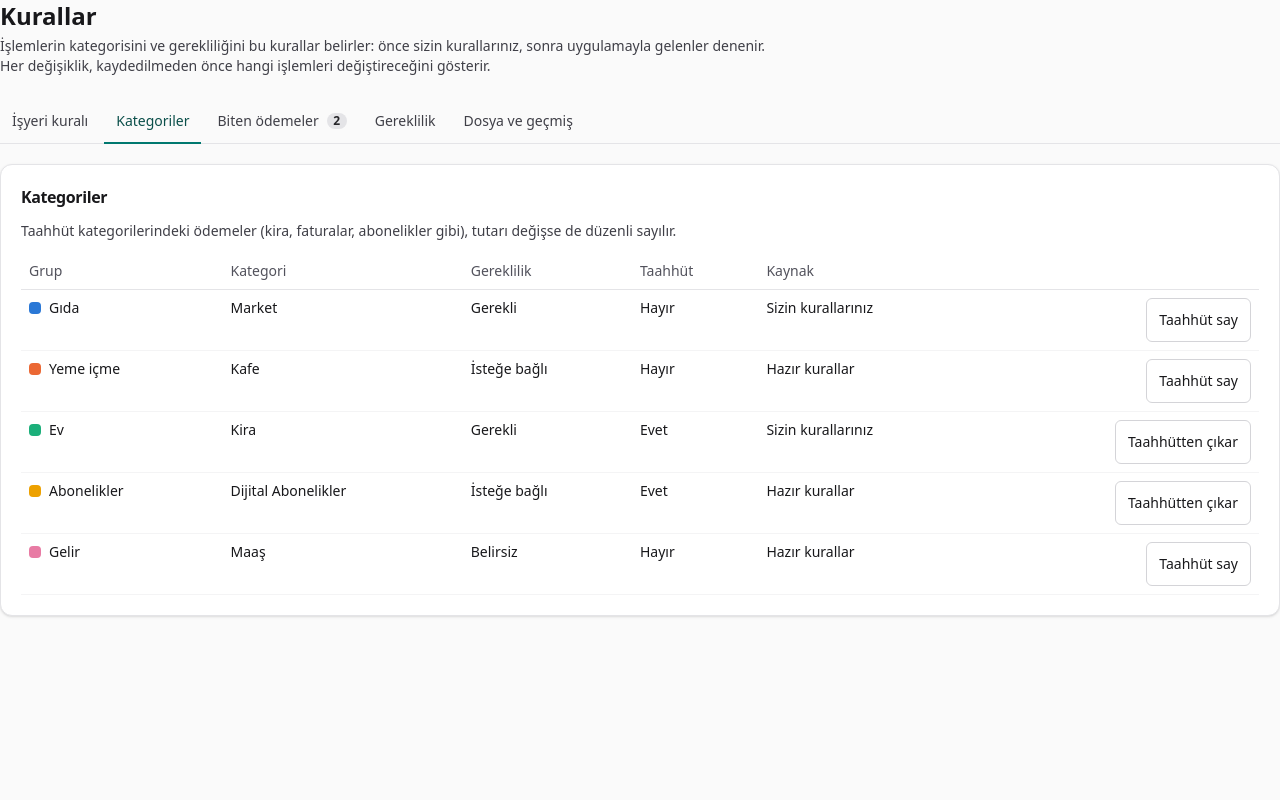
it: RulesPage: what the rules hold › lists the categories in one table in the detailed view, with whose rule names each
Expected: the text "Sizin kurallarınız" in the row of "Gıda" is shown, [766,298,873,317]
Expected: the text "Hazır kurallar" in the row of "Yeme içme" is shown, [766,359,855,378]
Step 1. Click the tab "Biten ödemeler 2" → (282, 122), box [206,100,359,144]
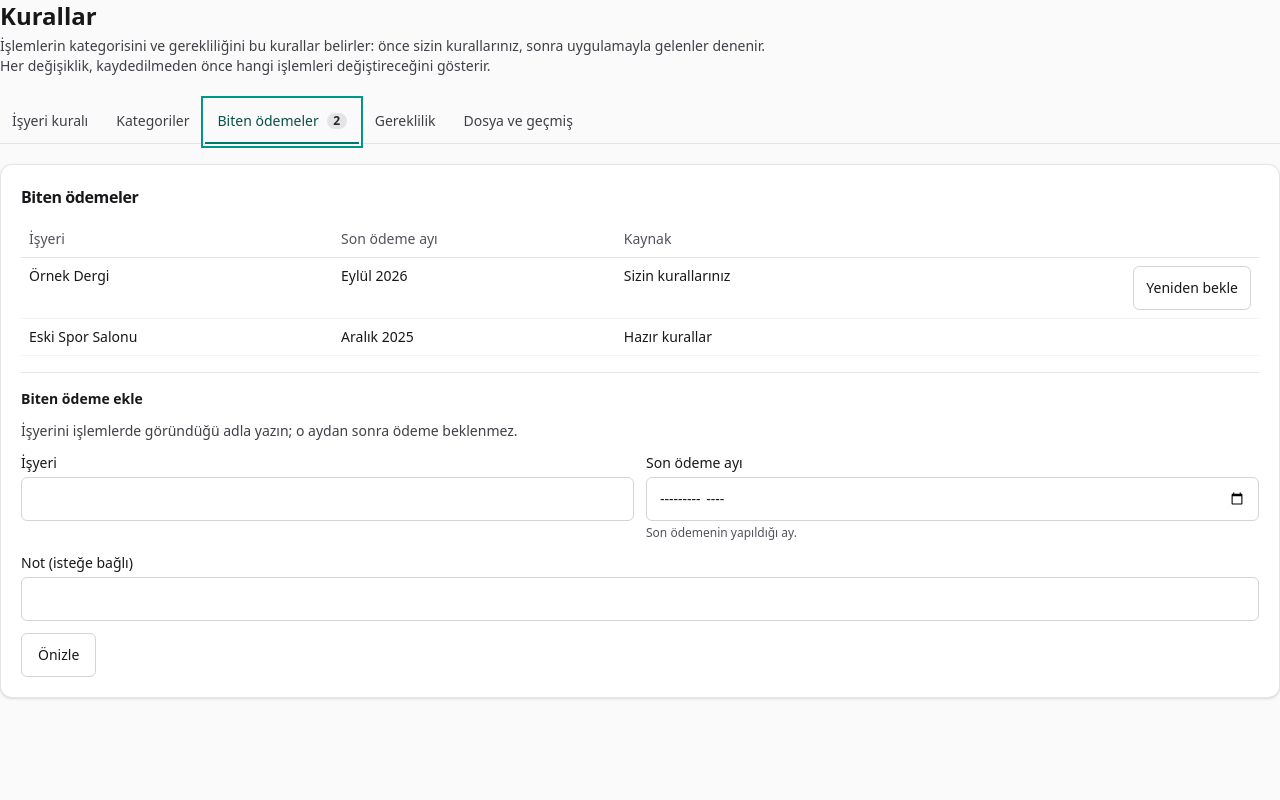
Now the text "Eylül 2026" is shown, box [333,258,616,318]
Step 2. Click the tab "Dosya ve geçmiş" → (518, 122), box [452,100,585,144]
(page scrolled)
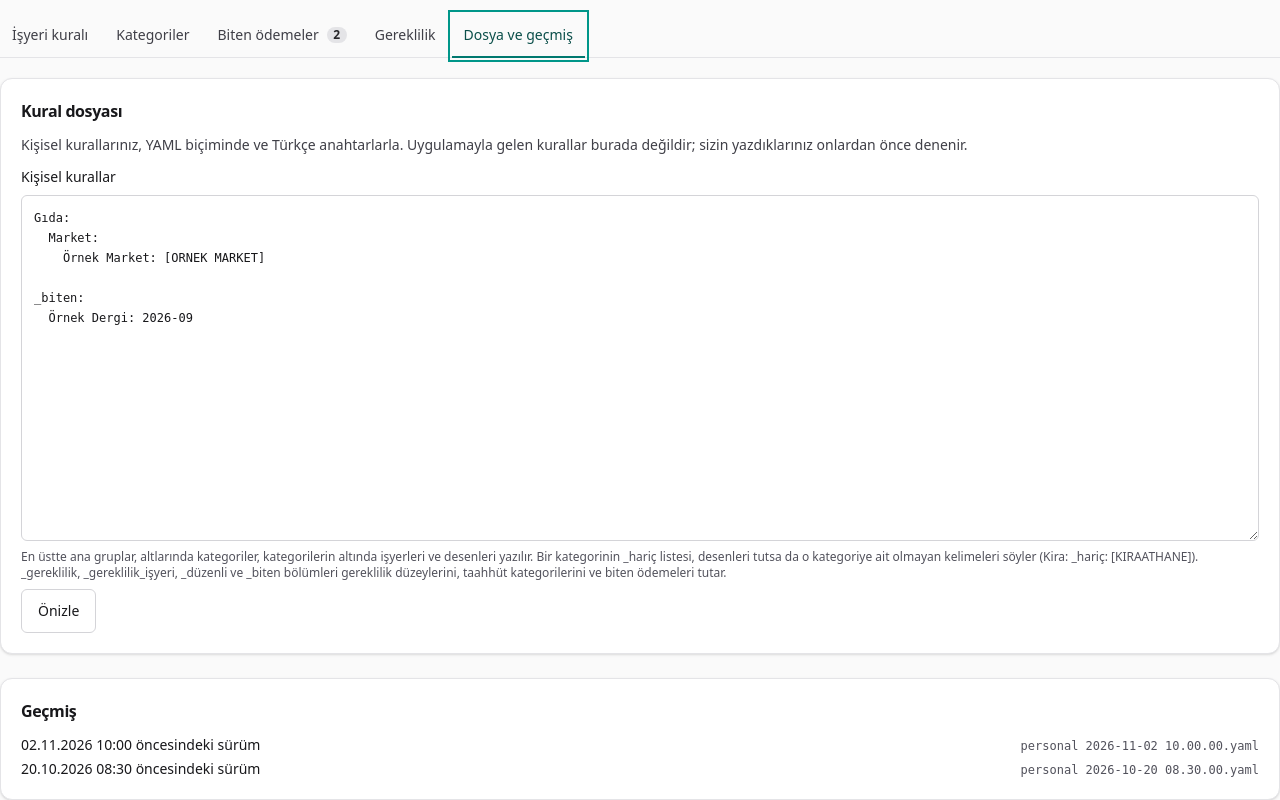
Now the text "personal 2026-11-02 10.00.00.yaml" is shown, box [1021,738,1259,754]
